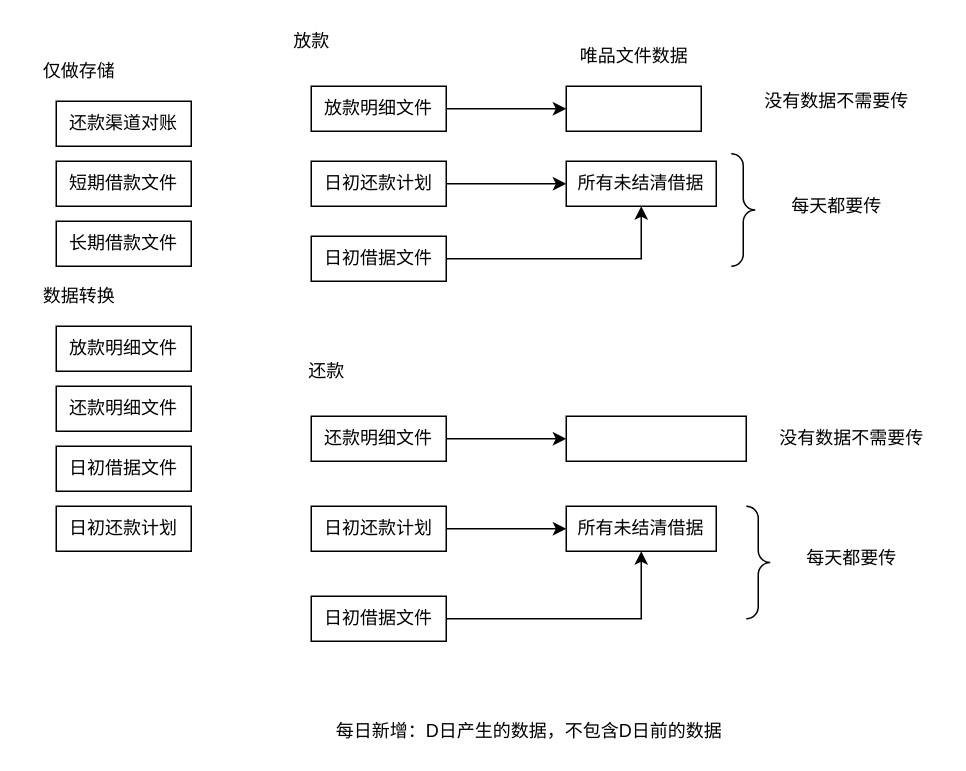
Image size: 966x771. Some labels were removed from this diagram. The box of each missing label's shape, as (x1, y1, x2, y2) in pixels:
每日新增数据: (565, 85, 701, 131)
每日新增还款数据: (565, 415, 746, 461)
